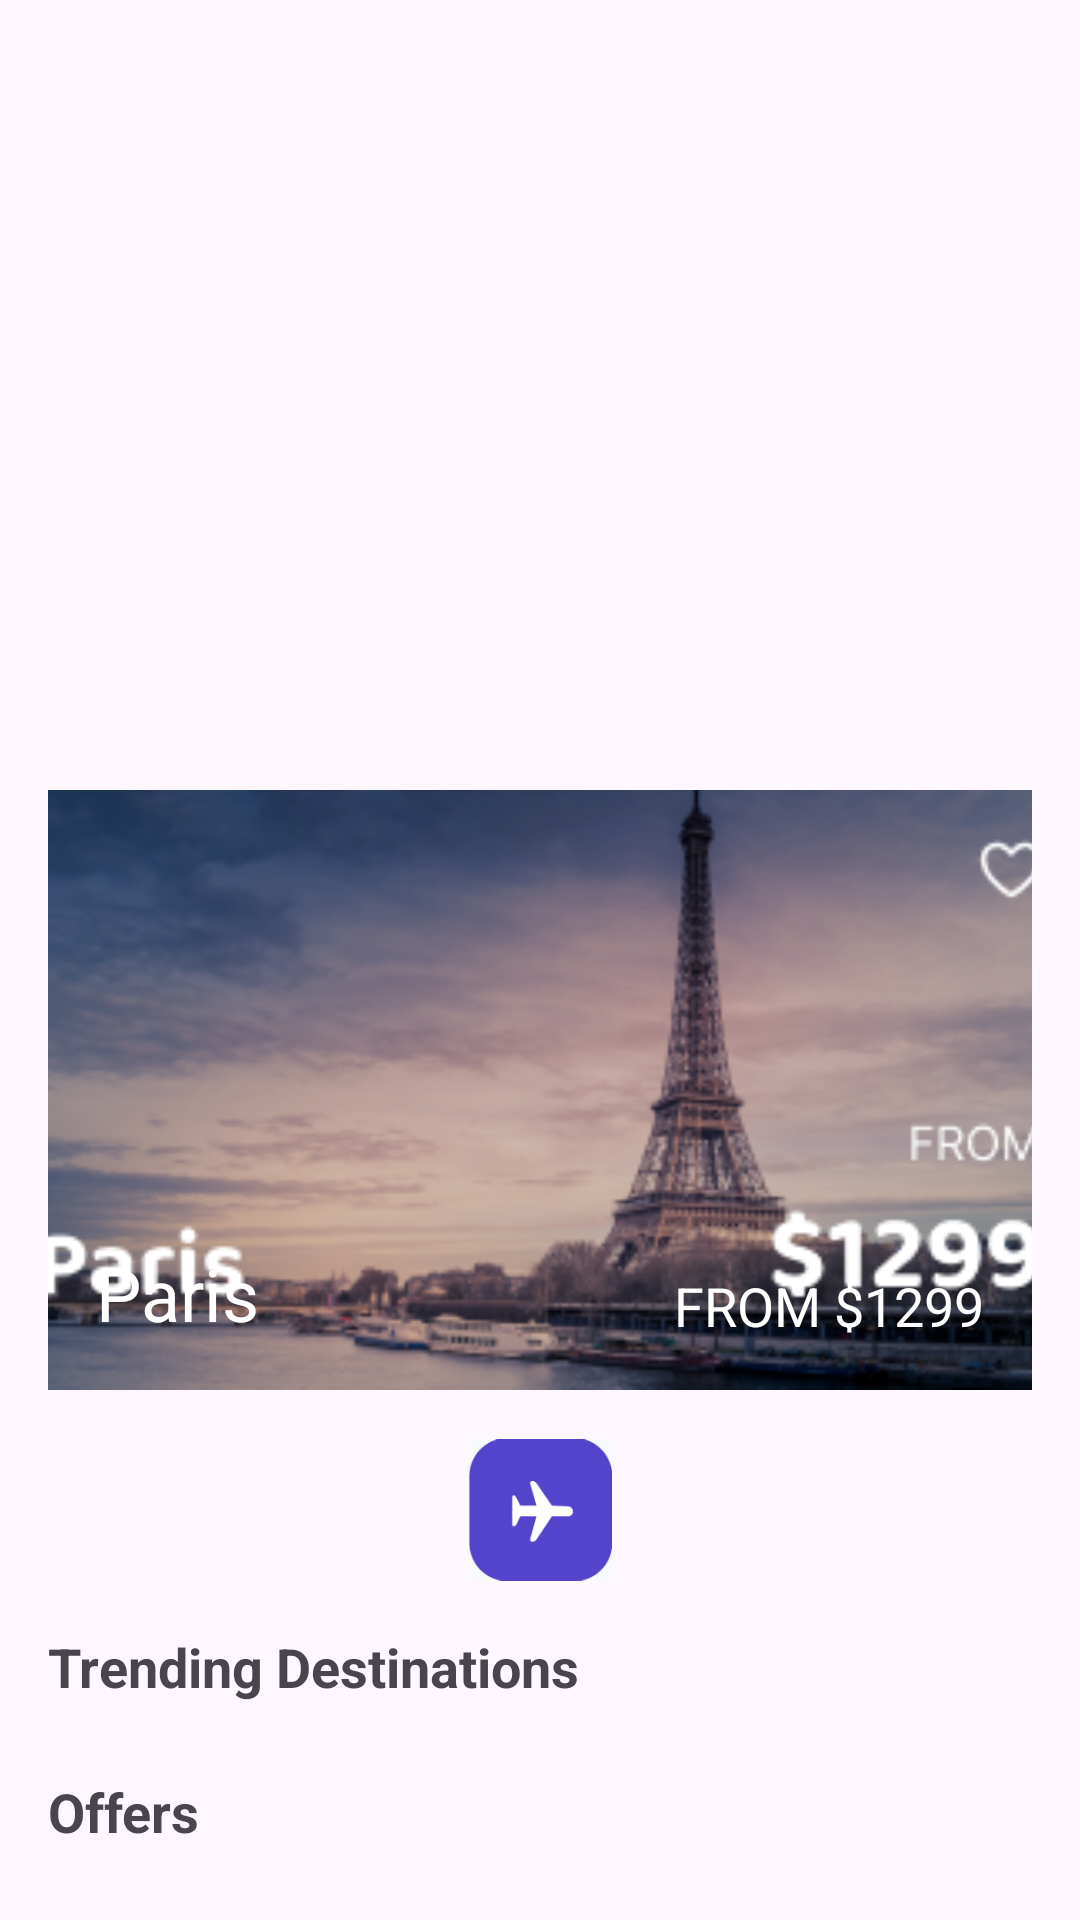

Where icons sit on this 1080*1920 app screen, as (left=x1, top=y1, right=x2, bottom=y2):
flighticon: (left=469, top=1439, right=612, bottom=1581)
